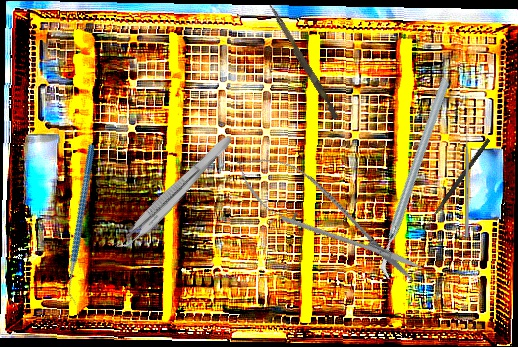Chopper: (316, 76, 516, 281), (19, 143, 147, 306)
Hook Surgical: (422, 137, 491, 232)
Micro Scissor: (222, 137, 434, 299)
Pusher: (264, 3, 342, 120), (465, 123, 469, 237)
Tissue Forceps: (111, 127, 235, 258)
